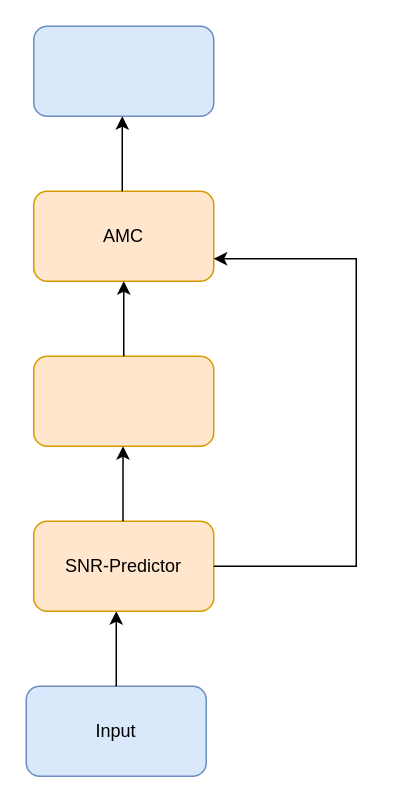
Image size: 395x803. Some labels were removed from this diagram. Here are the shapes that lost their labels. From the top down, the centre of each, then its label:
At pixel 123 70: "Prediction".
At pixel 123 400: "TADD-Denoiser".
